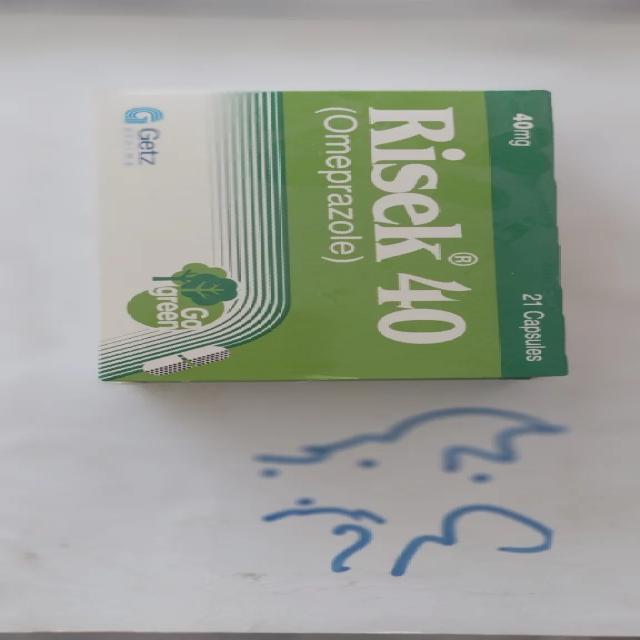drug-name: (364, 99, 480, 353)
